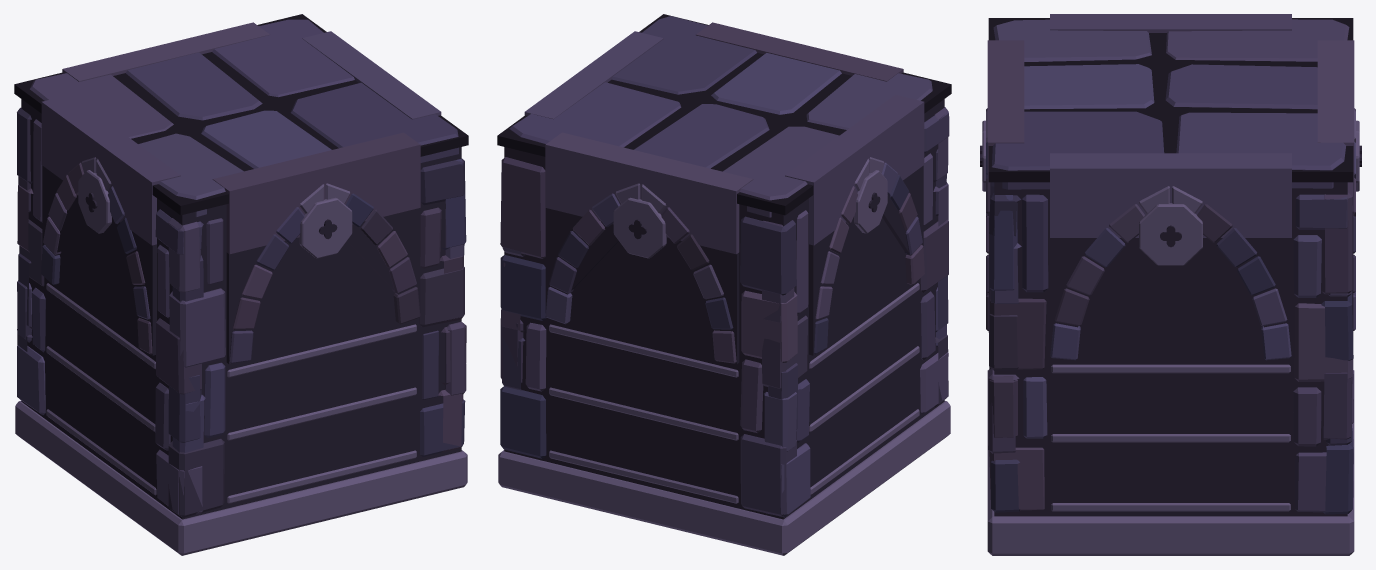
File: wall_b.fbx
The picture shows the model from 3 angles, left to right: view 1: azimuth 30°, elevation 25°; view 2: azimuth 150°, elevation 25°; view 3: azimuth 270°, elevation 25°; orthographic projection. The views are drawn at different scales.
Visible parts, largest first — view 1: wall_b; view 2: wall_b; view 3: wall_b.
Part boxes in pixels (x1=…): wall_b: x1=14, y1=14, x2=468, y2=555; wall_b: x1=497, y1=14, x2=951, y2=555; wall_b: x1=980, y1=14, x2=1361, y2=555.
Bounding box in the file's own units: 4 × 4.5 × 4.
